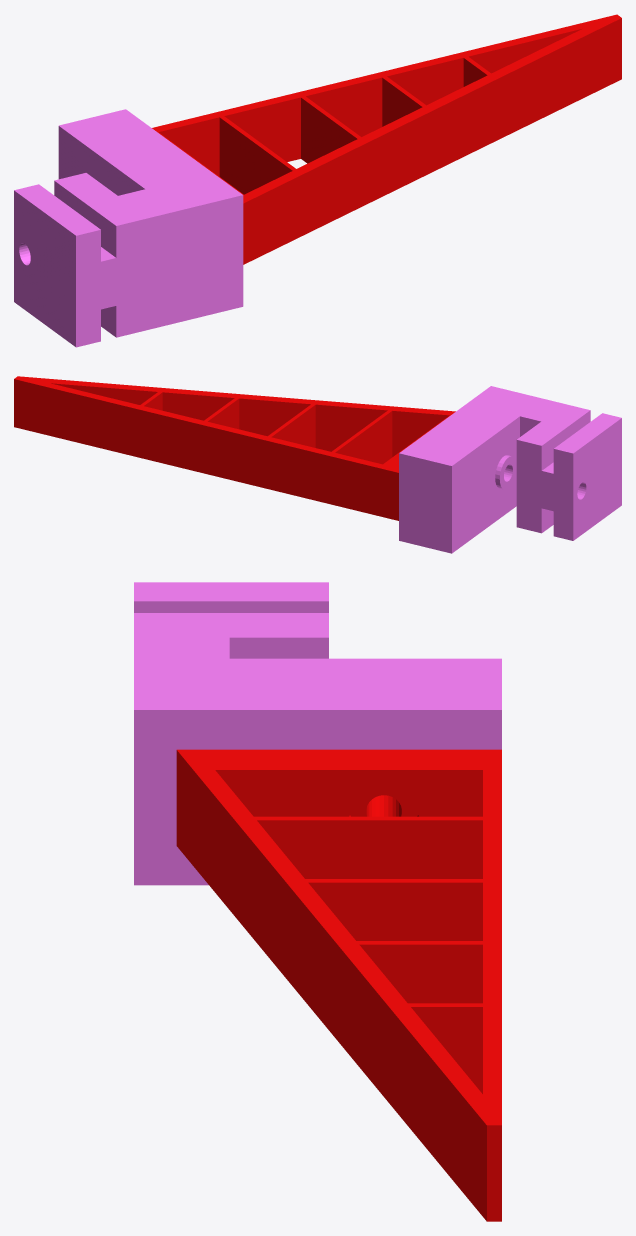
File: gripperR.dae
3 views of the same model, one above another, from view 1: azimuth 30°, elevation 25°; view 2: azimuth 150°, elevation 25°; view 3: azimuth 270°, elevation 25° (orthographic). The views are drawn at different scales.
Parts seen in each view (by area): view 1: node1, node0; view 2: node1, node0; view 3: node1, node0.
Boxes of the visible parts, <box> form: node1: <box>152,14,621,264</box>; node0: <box>14,109,243,347</box>; node1: <box>14,376,455,520</box>; node0: <box>399,386,621,553</box>; node1: <box>176,749,501,1221</box>; node0: <box>134,582,501,885</box>.
Size of the model in its own units: 0.1123 by 0.0347 by 0.0182.
